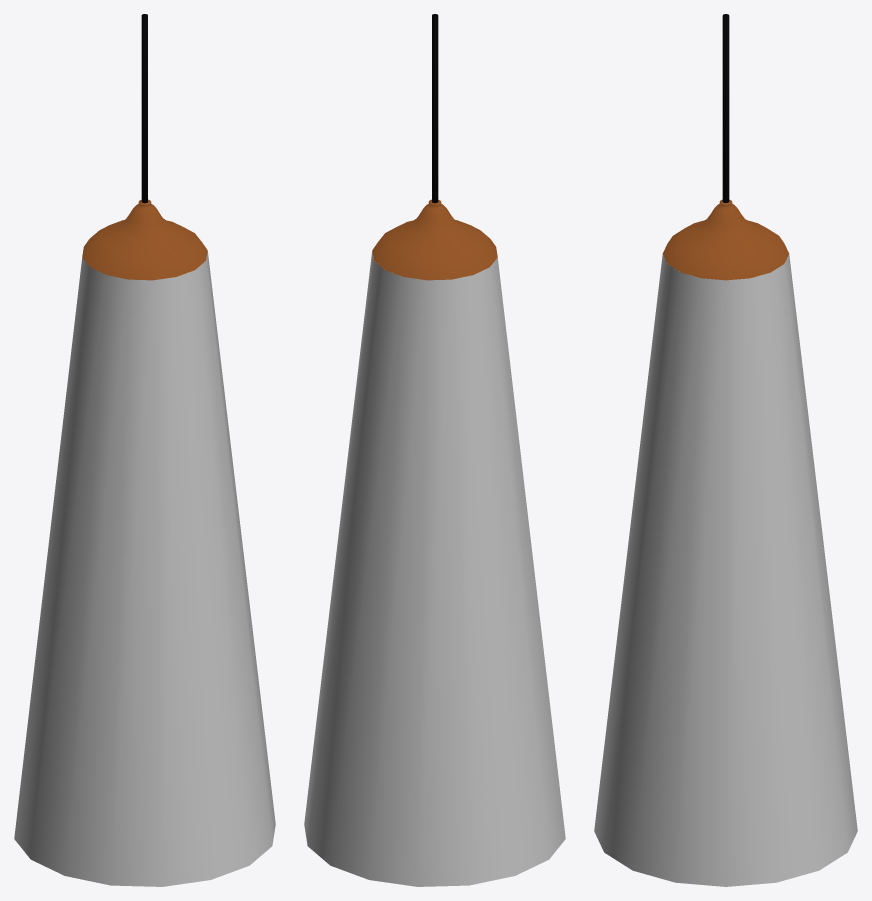
The model's file is lamp.gltf.
The picture shows the model from 3 angles, left to right: view 1: azimuth 30°, elevation 25°; view 2: azimuth 150°, elevation 25°; view 3: azimuth 270°, elevation 25°; orthographic projection.
Parts seen in each view (by area): view 1: Light, Lamp Body, Lamp Holder; view 2: Light, Lamp Body, Lamp Holder; view 3: Light, Lamp Body, Lamp Holder.
Boxes of the visible parts, x1,y1,x2,y2 form: Light: [14, 251, 275, 886]; Lamp Body: [82, 199, 207, 280]; Lamp Holder: [141, 14, 147, 203]; Light: [304, 251, 565, 886]; Lamp Body: [372, 199, 497, 280]; Lamp Holder: [432, 14, 438, 203]; Light: [594, 254, 857, 886]; Lamp Body: [662, 199, 789, 280]; Lamp Holder: [722, 14, 729, 202].
Bounding box in the file's own units: 2.93 × 9.99 × 2.93.
